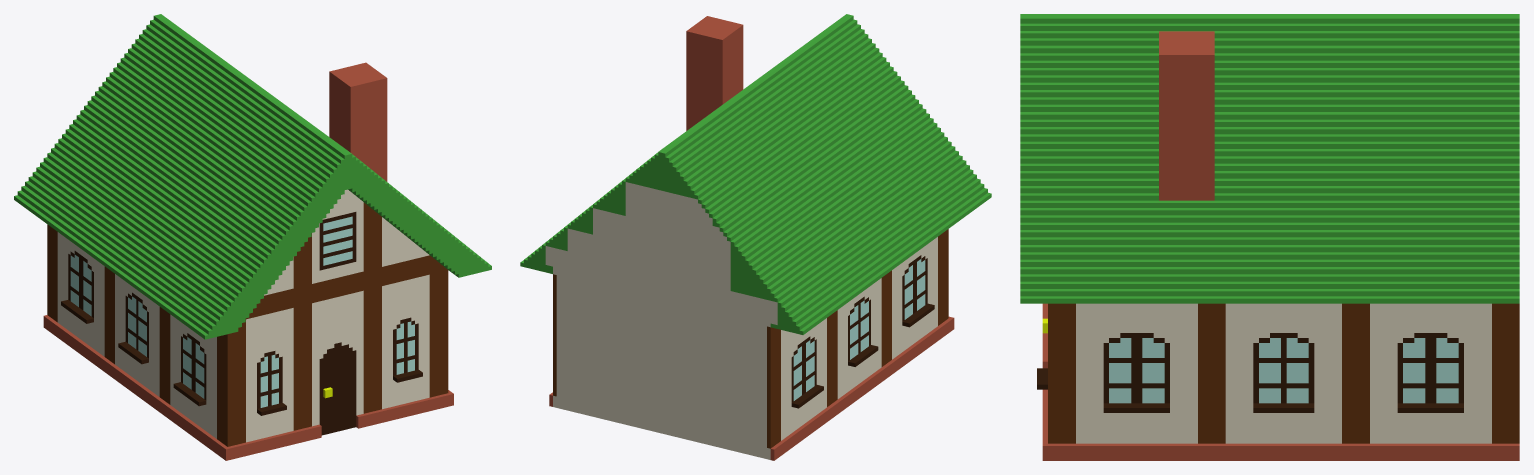
File: house.green.obj
The picture shows the model from 3 angles, left to right: view 1: azimuth 30°, elevation 25°; view 2: azimuth 150°, elevation 25°; view 3: azimuth 270°, elevation 25°; orthographic projection. The views are drawn at different scales.
Bounding box in the file's own units: 7.8 × 7.8 × 9.
Materials: 1 (1 with a texture image).
